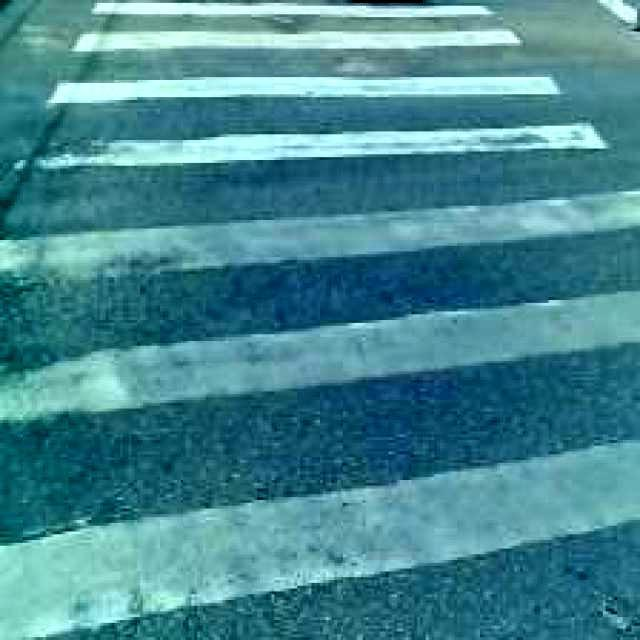crosswalk: (10, 2, 637, 637)
